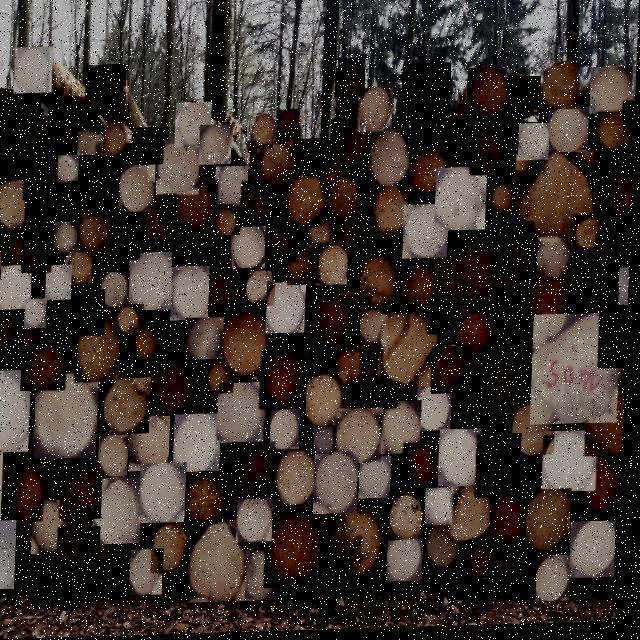wood-log: (533, 316, 623, 428), (514, 155, 599, 243), (37, 373, 102, 460), (437, 229, 503, 313), (191, 520, 252, 604), (269, 510, 331, 589), (381, 316, 441, 391), (0, 89, 42, 187), (337, 509, 389, 582), (308, 294, 364, 361), (155, 345, 209, 414), (402, 65, 452, 135), (545, 434, 601, 496), (436, 170, 489, 234), (96, 478, 146, 545), (224, 310, 274, 377), (176, 414, 225, 478), (468, 366, 519, 427), (220, 383, 270, 445), (568, 256, 618, 318), (528, 492, 576, 556), (78, 318, 124, 383), (479, 436, 525, 501), (48, 97, 99, 155), (143, 463, 191, 524), (264, 351, 312, 411), (317, 453, 362, 516), (0, 370, 34, 453), (106, 378, 154, 435), (61, 527, 105, 589), (574, 525, 620, 584), (600, 152, 635, 229), (588, 393, 628, 460), (471, 121, 518, 178), (130, 253, 175, 312), (339, 410, 386, 466), (454, 485, 498, 544), (404, 206, 451, 261), (78, 153, 123, 210), (441, 431, 485, 489), (368, 133, 412, 190), (24, 336, 69, 391), (514, 405, 559, 459), (284, 174, 328, 229), (236, 443, 279, 499), (278, 450, 320, 507), (157, 145, 202, 198), (63, 465, 106, 520), (132, 417, 174, 473), (527, 276, 572, 328), (382, 403, 425, 457), (590, 460, 626, 522), (309, 374, 350, 428), (172, 267, 212, 322), (188, 472, 228, 526), (175, 183, 218, 233), (331, 120, 373, 171), (268, 284, 309, 336), (11, 466, 49, 522), (370, 188, 413, 237), (467, 71, 508, 122), (137, 194, 178, 245), (86, 65, 127, 116), (591, 70, 634, 118), (494, 499, 532, 553), (360, 257, 400, 308), (544, 66, 587, 113), (400, 266, 440, 316), (35, 500, 71, 555), (548, 110, 590, 157), (459, 312, 500, 360), (434, 349, 475, 397), (362, 362, 402, 411), (406, 445, 445, 495), (257, 143, 297, 191), (14, 47, 54, 94), (248, 551, 284, 603), (601, 311, 631, 372), (120, 165, 158, 213), (504, 79, 542, 126), (156, 523, 191, 574), (391, 494, 428, 542), (410, 151, 449, 196), (500, 225, 537, 272), (325, 175, 362, 222), (187, 318, 227, 361), (391, 538, 428, 584), (176, 103, 213, 149), (208, 266, 245, 311), (508, 316, 545, 361), (0, 180, 32, 232), (540, 559, 575, 606), (105, 217, 143, 260), (240, 500, 277, 544), (419, 389, 455, 434), (358, 90, 394, 135), (73, 290, 108, 336), (134, 550, 168, 597), (232, 226, 268, 270), (0, 310, 26, 370), (428, 528, 463, 572), (243, 184, 278, 228), (0, 265, 34, 310), (338, 211, 373, 254), (318, 245, 351, 290), (0, 520, 21, 590), (362, 458, 395, 501), (295, 140, 331, 179), (538, 241, 573, 281), (188, 230, 222, 270), (216, 168, 250, 208), (200, 125, 233, 166), (597, 115, 631, 153), (497, 271, 530, 310), (267, 225, 300, 264), (273, 411, 304, 452), (101, 436, 132, 477), (133, 128, 166, 166), (26, 197, 58, 236), (472, 542, 503, 582), (337, 348, 369, 386), (519, 127, 551, 165), (336, 59, 366, 99), (289, 250, 321, 287), (81, 213, 110, 253), (24, 236, 55, 273), (430, 300, 460, 337), (66, 246, 95, 284), (428, 491, 457, 529), (25, 164, 55, 200), (575, 220, 605, 255), (103, 272, 132, 308), (249, 273, 278, 309), (362, 312, 391, 347), (438, 120, 467, 154), (247, 116, 276, 150), (102, 123, 131, 157), (47, 265, 74, 301), (209, 361, 237, 395), (310, 220, 337, 253), (135, 330, 162, 363), (119, 305, 146, 337), (217, 207, 243, 237), (597, 236, 622, 266), (56, 222, 80, 253), (163, 314, 186, 346), (491, 187, 515, 217), (278, 111, 301, 142), (26, 299, 49, 329), (315, 429, 337, 456), (59, 155, 80, 183), (501, 551, 522, 578), (47, 553, 64, 585), (0, 450, 7, 525), (79, 132, 100, 156), (621, 271, 632, 309), (624, 105, 636, 129), (0, 248, 4, 280)
